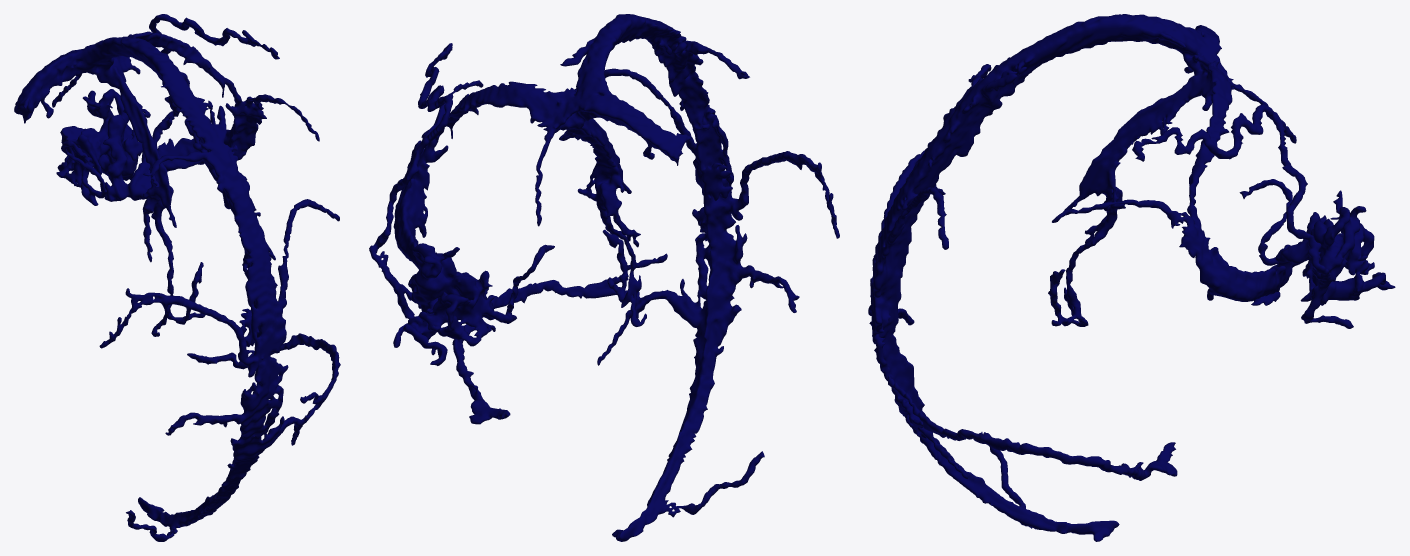
The model's file is Venous_sinus.obj.
3 renders of one model, left to right at view 1: azimuth 30°, elevation 25°; view 2: azimuth 150°, elevation 25°; view 3: azimuth 270°, elevation 25°, orthographic. The views are drawn at different scales.
Visible parts, largest first — view 1: grp1; view 2: grp1; view 3: grp1.
Boxes of the visible parts, x1,y1,x2,y2 form: grp1: (14,14,340,541); grp1: (369,14,839,541); grp1: (868,14,1395,541).
Bounding box in the file's own units: 107 × 173 × 158.
